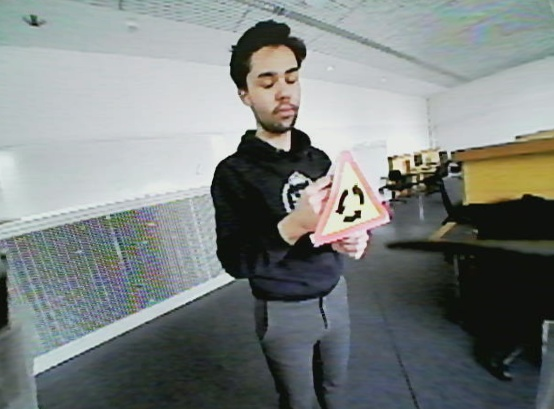roundabout_warning: (301, 146, 400, 233)
